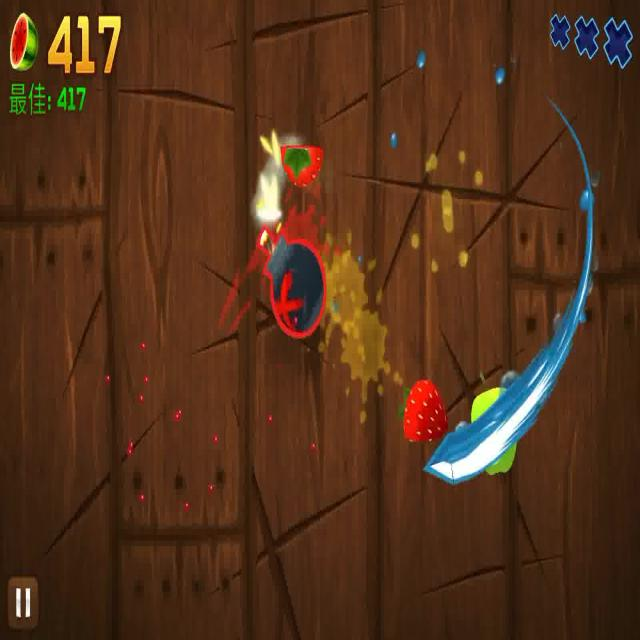bomb: (252, 214, 328, 345)
fruit: (472, 386, 519, 476), (401, 378, 447, 452), (273, 134, 325, 188)
